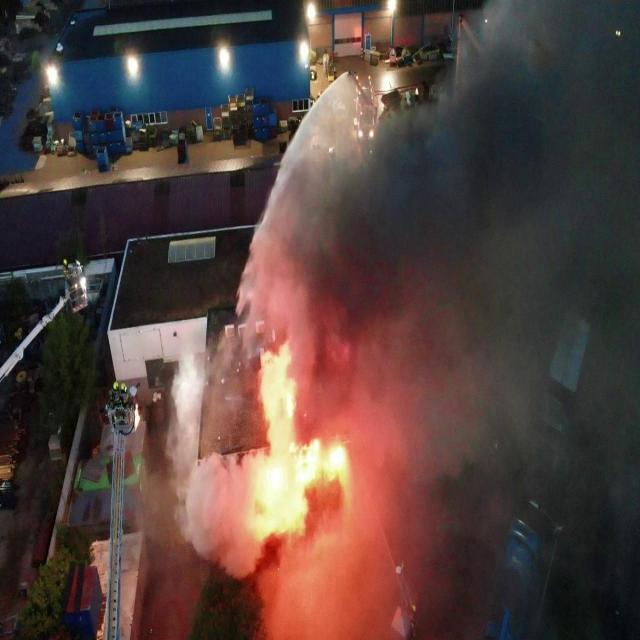Fire: (294, 438, 320, 484), (267, 466, 285, 494), (330, 446, 345, 468), (286, 392, 294, 418), (289, 441, 297, 454)
Smoke: (168, 0, 640, 640)
